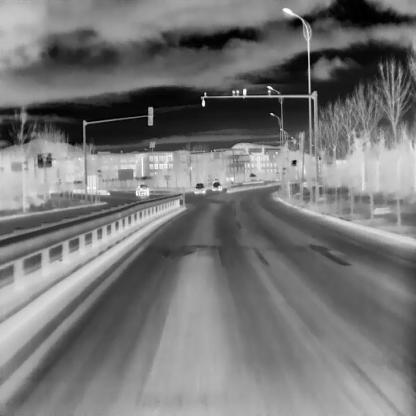car: (134, 184, 149, 196), (193, 182, 205, 193), (212, 181, 223, 191)
